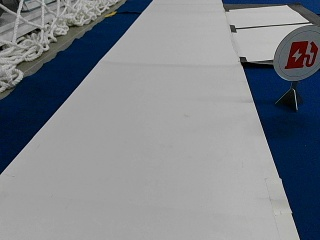battery: (274, 23, 319, 81)
